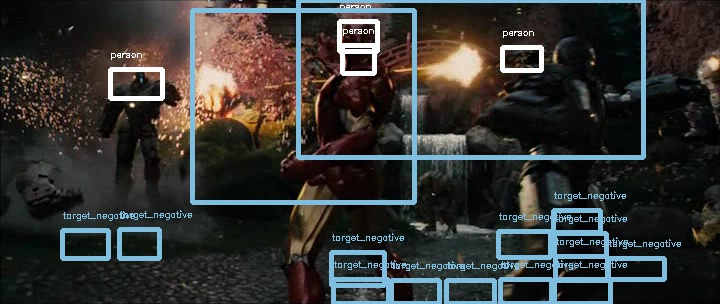person: (324, 18, 381, 66), (323, 18, 380, 66), (325, 18, 382, 66), (324, 17, 381, 65), (324, 19, 381, 67)
target_negative: (192, 100, 702, 219), (126, 96, 517, 209), (269, 198, 684, 250), (264, 99, 487, 192), (253, 76, 680, 119), (346, 75, 604, 112)
